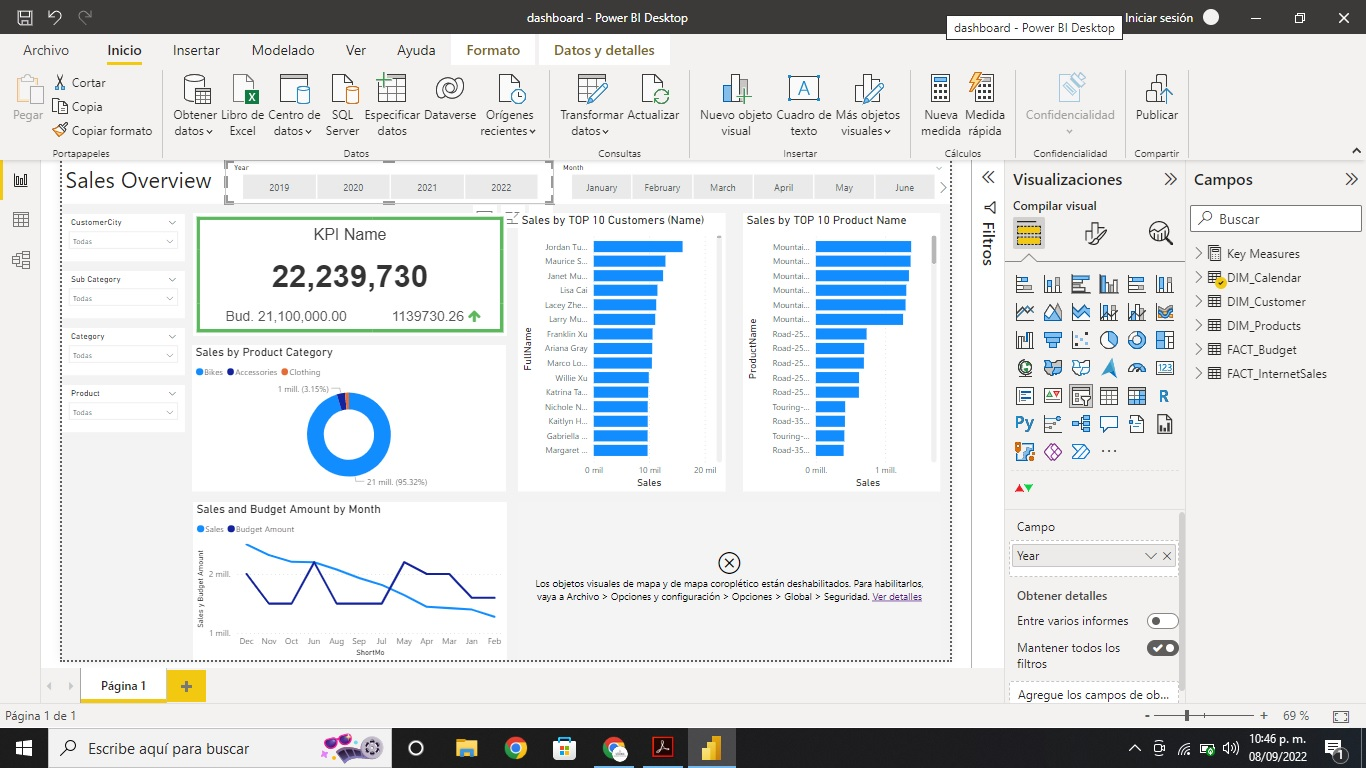

The page's visual inventory and layout, read from the dashboard file:
{"tool":"powerbi","page":{"name":"Página 1","canvas":[1280,720],"ordinal":0},"visuals":[{"type":"textbox","box":[0,0,1280.5,63.2],"z":0},{"type":"slicer","fields":{"Values":["DIM_Customer.CustomerCity"]},"box":[0,77.6,176.8,67.5],"z":1000},{"type":"slicer","fields":{"Values":["DIM_Products.SubCategory"]},"box":[0,159.5,176.8,67.5],"z":2000},{"type":"slicer","fields":{"Values":["DIM_Products.CategoryName"]},"box":[0,241.4,176.8,67.5],"z":3000},{"type":"slicer","fields":{"Values":["DIM_Products.SubCategory"]},"box":[0,323.4,176.8,67.5],"z":4000},{"type":"slicer","fields":{"Values":["DIM_Calendar.Year"]},"box":[234.3,0,474.3,63.2],"z":5000},{"type":"slicer","fields":{"Values":["DIM_Calendar.Month"]},"box":[708.5,0,572,63.2],"z":6000},{"type":"BBED0A4D4D8D44CE93CF2DAFADEE466C","fields":{"actual":["FACT_InternetSales.Sales"],"target1":["FACT_Budget.Budget Amount"],"target2":["Key Measures.Sales - Budget"]},"box":[189,76.5,451.7,177.5],"z":7000},{"type":"donutChart","title":"Sales by Product Category","fields":{"Category":["DIM_Products.CategoryName"],"Y":["Key Measures.Sales"]},"box":[187.6,267,451.7,210.7],"z":8000},{"type":"lineChart","title":"Sales and Budget Amount by Month","fields":{"Y":["Key Measures.Sales","Key Measures.Budget Amount"],"Category":["DIM_Calendar.ShortMo"]},"box":[189,492.1,451.7,228],"z":9000},{"type":"barChart","title":"Sales by TOP 10 Customers (Name)","fields":{"Y":["Key Measures.Sales"],"Category":["DIM_Customer.FullName"]},"box":[656.6,76.5,298.7,401.2],"z":10000},{"type":"barChart","title":"Sales by TOP 10 Product Name","fields":{"Y":["Key Measures.Sales"],"Category":["DIM_Products.ProductName"]},"box":[981.3,76.5,284.3,401.2],"z":11000},{"type":"map","title":"Sales pby Customer City","fields":{"Category":["DIM_Customer.CustomerCity"],"Size":["Key Measures.Sales"]},"box":[656.6,492.1,609,228],"z":12000}]}

Visuals, with their boxes on the page's 1280x720 design canvas (x1, y1, x2, y2). These are canvas units, not pixel positions in the 1366x768 screenshot, which may show the page scaled, cropped or inside an application window:
textbox: l=0, t=0, r=1280, b=63
slicer - DIM_Customer.CustomerCity: l=0, t=78, r=177, b=145
slicer - DIM_Products.SubCategory: l=0, t=160, r=177, b=227
slicer - DIM_Products.CategoryName: l=0, t=241, r=177, b=309
slicer - DIM_Products.SubCategory: l=0, t=323, r=177, b=391
slicer - DIM_Calendar.Year: l=234, t=0, r=709, b=63
slicer - DIM_Calendar.Month: l=708, t=0, r=1280, b=63
BBED0A4D4D8D44CE93CF2DAFADEE466C - FACT_InternetSales.Sales x FACT_Budget.Budget Amount: l=189, t=76, r=641, b=254
"Sales by Product Category" donutChart: l=188, t=267, r=639, b=478
"Sales and Budget Amount by Month" lineChart: l=189, t=492, r=641, b=720
"Sales by TOP 10 Customers (Name)" barChart: l=657, t=76, r=955, b=478
"Sales by TOP 10 Product Name" barChart: l=981, t=76, r=1266, b=478
"Sales pby Customer City" map: l=657, t=492, r=1266, b=720
